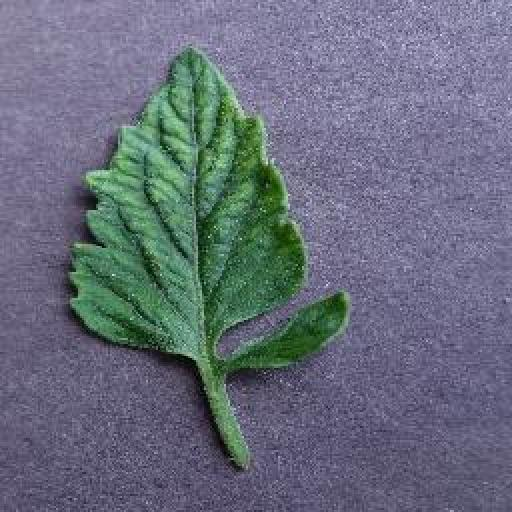Mosaic Virus: (70, 41, 351, 372)
